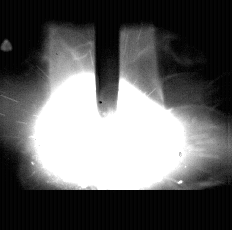arame: (96, 0, 121, 117)
poca: (34, 0, 187, 230)
